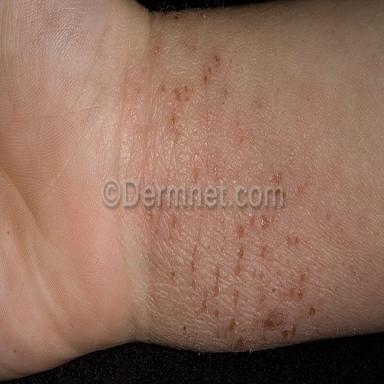eczema: (145, 209, 325, 350), (143, 45, 288, 187)
